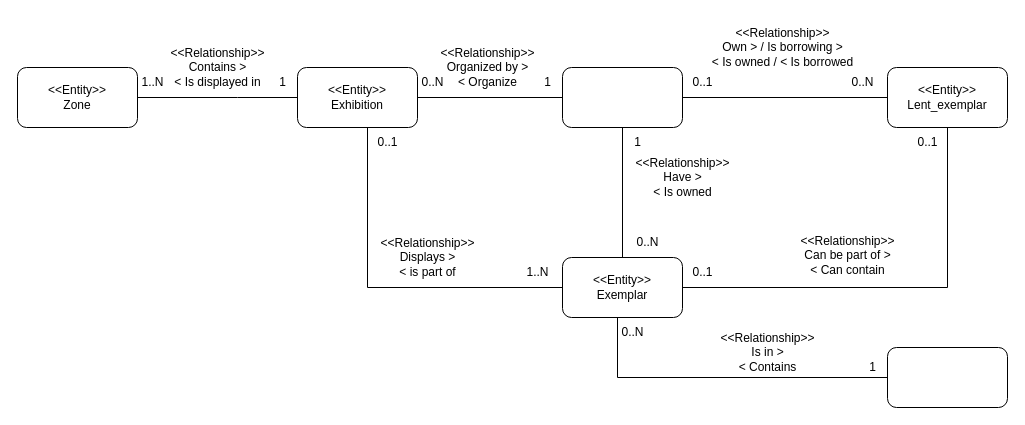
Some shapes in this 1025 by 425 pixel diagram are drawn without their labels. Here are the shapes that lost their labels. From the top down, the centre of each, then its label:
At pixel 622 97: "<<Entity>> Institution".
At pixel 947 377: "<<Entity>> Category".
